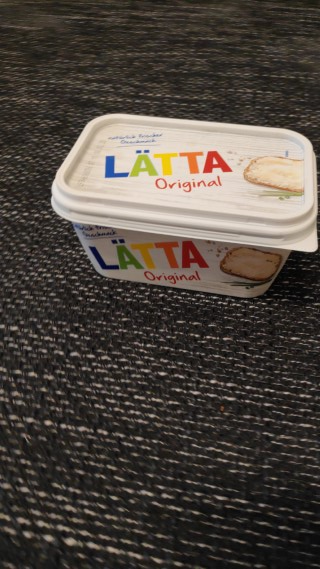laetta: (49, 111, 320, 299)
